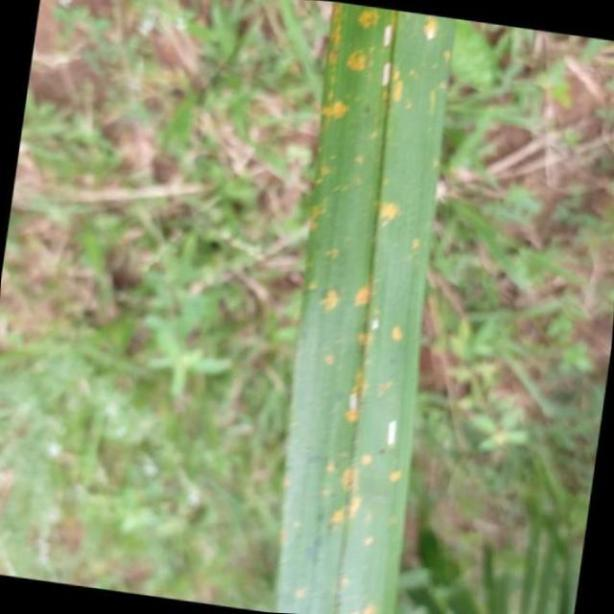Kalium: (274, 3, 464, 614)
